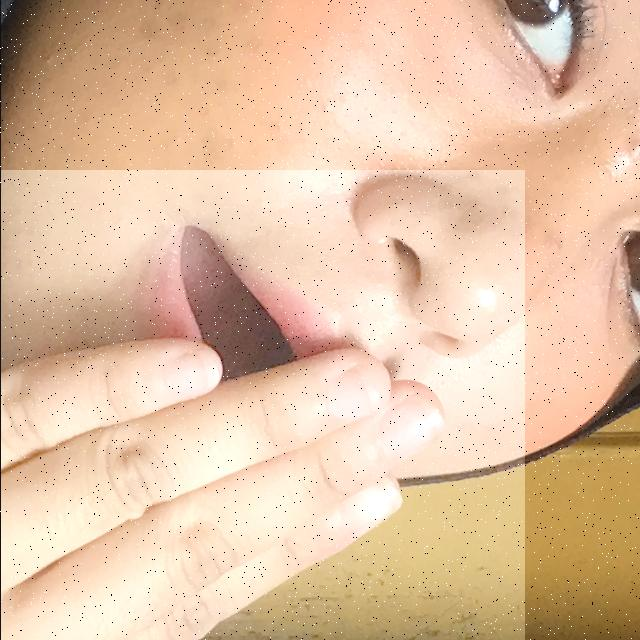ngantuk: (0, 170, 524, 640)
